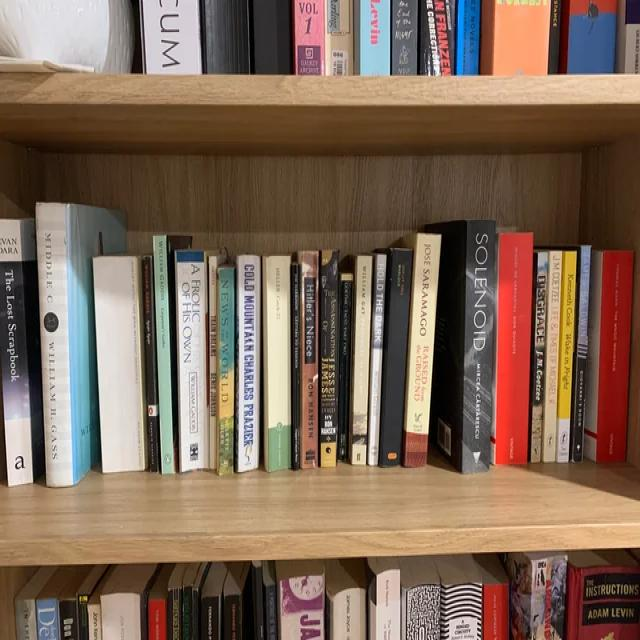Books: (35, 202, 126, 487), (425, 220, 496, 472), (0, 218, 44, 486), (92, 257, 146, 473), (584, 250, 634, 462), (492, 233, 534, 465), (400, 233, 441, 466), (175, 250, 208, 472), (379, 248, 412, 466), (567, 550, 640, 639), (262, 255, 291, 471), (505, 552, 568, 639), (236, 255, 261, 471), (154, 235, 176, 474), (349, 255, 372, 465), (556, 250, 578, 462), (298, 252, 319, 468), (570, 245, 591, 461), (141, 0, 202, 74), (542, 250, 562, 461), (216, 265, 236, 475), (100, 565, 156, 639), (319, 250, 338, 468), (436, 555, 482, 640), (208, 255, 226, 469), (368, 253, 386, 464), (529, 252, 547, 462), (566, 0, 616, 74), (142, 257, 159, 471), (277, 562, 324, 639), (401, 558, 441, 639), (15, 567, 57, 639), (473, 553, 508, 639), (36, 567, 76, 639), (338, 273, 352, 459), (369, 557, 400, 639), (359, 0, 390, 75), (294, 0, 325, 74), (201, 562, 228, 639), (182, 562, 209, 639), (78, 565, 106, 639), (224, 562, 250, 639), (325, 0, 352, 74), (391, 0, 418, 74), (148, 563, 174, 639), (455, 0, 481, 74), (291, 263, 300, 469), (88, 567, 112, 639), (168, 563, 187, 639), (433, 0, 451, 74), (263, 562, 278, 639), (427, 0, 441, 74), (548, 0, 561, 74), (59, 587, 76, 639), (346, 595, 351, 632), (70, 578, 79, 587)
